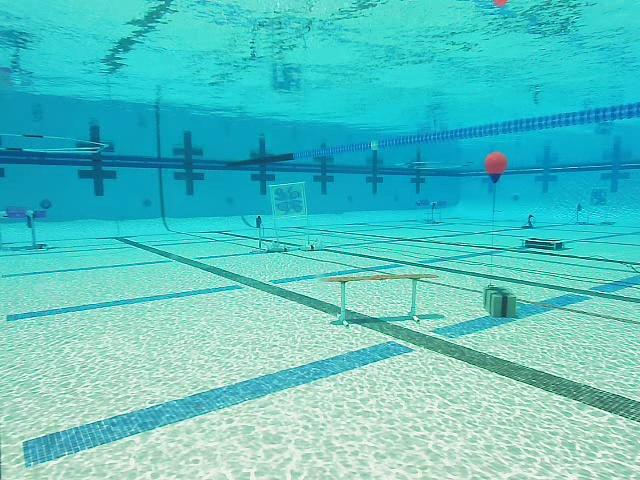buoy: (485, 152, 507, 183)
torpedo: (271, 181, 306, 219)
